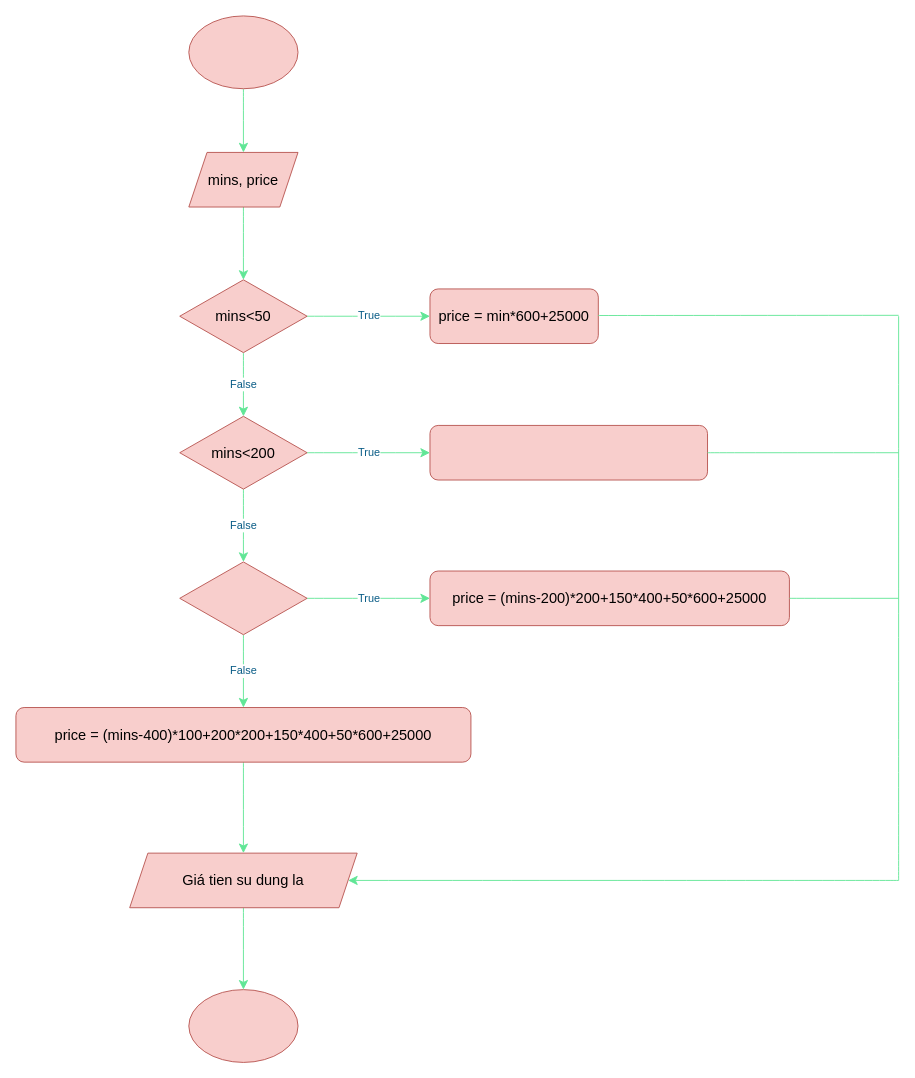
Image size: 915x1078. Some labels were removed from this diagram. Here are the shapes that lost their labels. From the top down, the centre of each, then its label:
At point (243, 52): "Start".
At point (568, 452): "price = (min-50)*400+50*600+25000".
At point (243, 598): "mins<400".
At point (243, 1025): "End".
